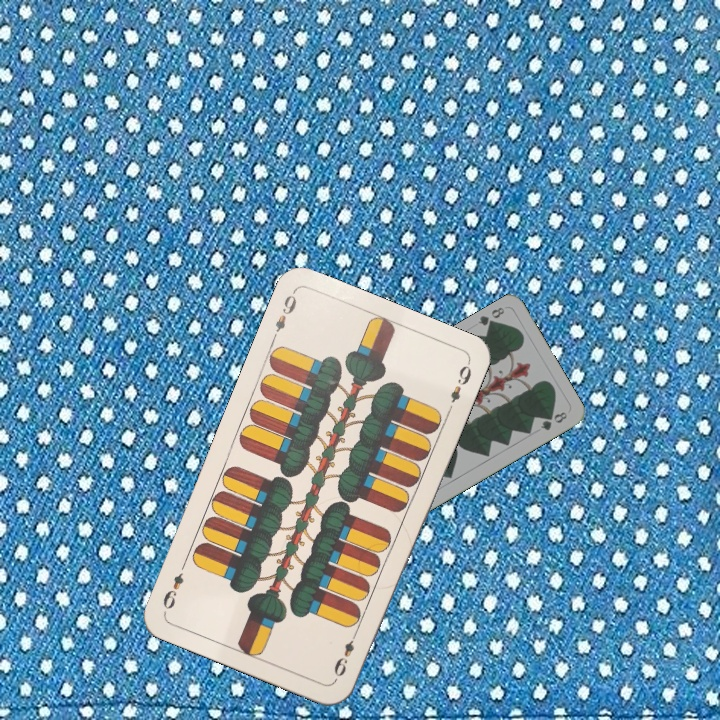E9: (267, 288, 300, 344), (330, 627, 361, 680)
G8: (474, 303, 507, 332)
